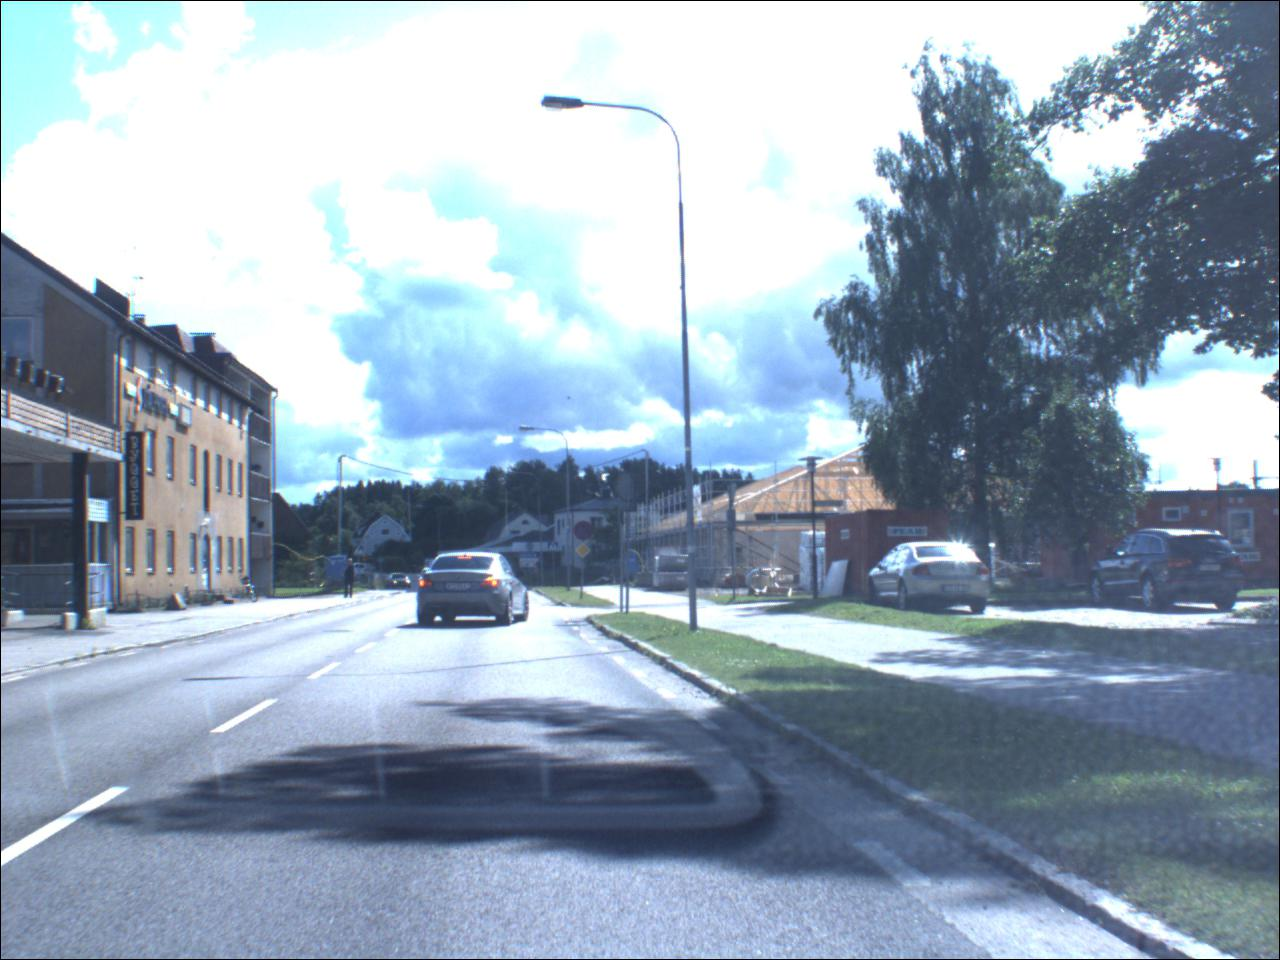NO_STOPPING_NO_STANDING: (577, 520, 598, 545)
PEDESTRIAN_CROSSING: (356, 546, 367, 559), (551, 542, 562, 554)
PRIORITY_ROAD: (577, 544, 594, 562)
